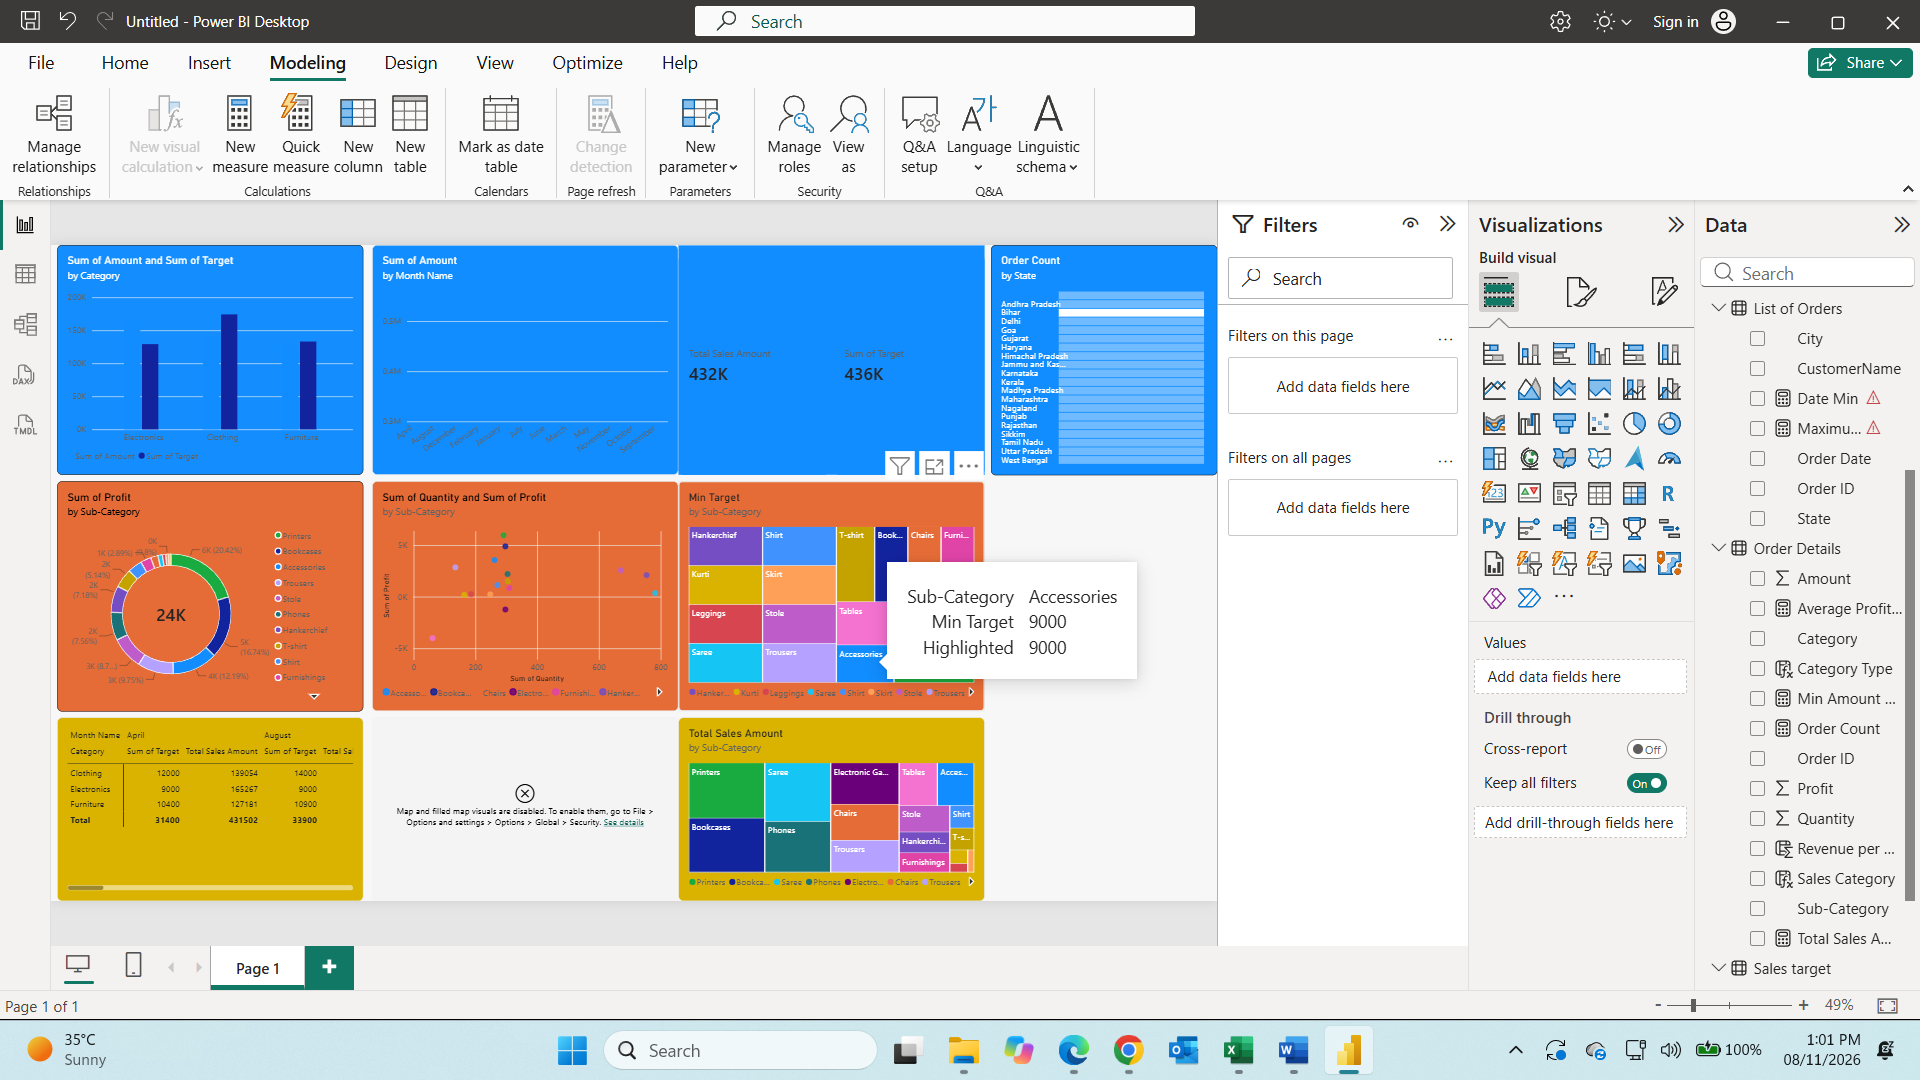

Layout of this report page (visuals, bound fields, positions):
{"tool":"powerbi","page":{"name":"Page 1","canvas":[1920,1080],"ordinal":0},"visuals":[{"type":"clusteredColumnChart","fields":{"Category":["Order Details.Category"],"Y":["Sum(Order Details.Amount)","Sum(Sales target.Target)"]},"box":[10.3,0,504.3,378.7],"z":0},{"type":"donutChart","fields":{"Category":["Order Details.Sub-Category"],"Y":["Sum(Order Details.Profit)"]},"box":[10,389,504,379],"z":1},{"type":"lineChart","fields":{"Category":["Date_Table.Month Name"],"Y":["Sum(Order Details.Amount)"]},"box":[529,0,504.3,378.7],"z":2},{"type":"scatterChart","fields":{"Series":["Order Details.Sub-Category"],"X":["Sum(Order Details.Quantity)"],"Y":["Sum(Order Details.Profit)"]},"box":[529,389,504.3,378.7],"z":3},{"type":"cardVisual","fields":{"Data":["Order Details.Total Sales Amount","Sum(Sales target.Target)"]},"box":[1033.3,0,504.3,378.7],"z":4},{"type":"treemap","fields":{"Group":["Order Details.Sub-Category"],"Values":["Sales target.Min Target"]},"box":[1033.3,389,504.3,378.7],"z":5},{"type":"pivotTable","fields":{"Columns":["Date_Table.Month Name"],"Rows":["Order Details.Category"],"Values":["Sum(Sales target.Target)","Order Details.Total Sales Amount"]},"box":[10,778,504,302],"z":6},{"type":"map","fields":{"Category":["List of Orders.City"]},"box":[529,778,504,302],"z":7},{"type":"treemap","fields":{"Group":["Order Details.Sub-Category"],"Values":["Order Details.Total Sales Amount"]},"box":[1033,778,504,302],"z":8},{"type":"funnel","fields":{"Category":["List of Orders.State"],"Y":["Order Details.Order Count"]},"box":[1547,0,373,379],"z":9}]}

Visuals, with their boxes on the page's 1920x1080 design canvas (x1, y1, x2, y2). These are canvas units, not pixel positions in the 1920x1080 screenshot, which may show the page scaled, cropped or inside an application window:
clusteredColumnChart - Order Details.Category x Sum(Order Details.Amount): (left=10, top=0, right=515, bottom=379)
donutChart - Order Details.Sub-Category x Sum(Order Details.Profit): (left=10, top=389, right=514, bottom=768)
lineChart - Date_Table.Month Name x Sum(Order Details.Amount): (left=529, top=0, right=1033, bottom=379)
scatterChart - Order Details.Sub-Category x Sum(Order Details.Quantity): (left=529, top=389, right=1033, bottom=768)
cardVisual - Order Details.Total Sales Amount x Sum(Sales target.Target): (left=1033, top=0, right=1538, bottom=379)
treemap - Order Details.Sub-Category x Sales target.Min Target: (left=1033, top=389, right=1538, bottom=768)
pivotTable - Date_Table.Month Name x Order Details.Category: (left=10, top=778, right=514, bottom=1080)
map - List of Orders.City: (left=529, top=778, right=1033, bottom=1080)
treemap - Order Details.Sub-Category x Order Details.Total Sales Amount: (left=1033, top=778, right=1537, bottom=1080)
funnel - List of Orders.State x Order Details.Order Count: (left=1547, top=0, right=1920, bottom=379)
